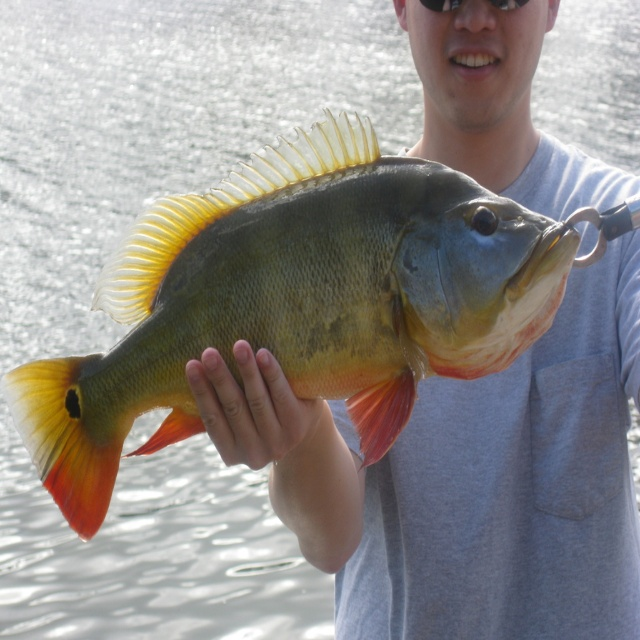Fish: (0, 107, 582, 543)
